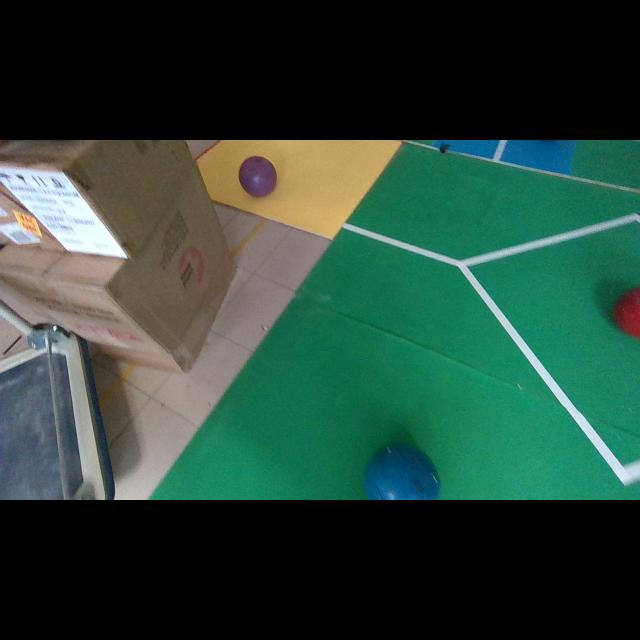B: (365, 445, 440, 500)
P: (239, 156, 276, 198)
R: (612, 288, 640, 338)
